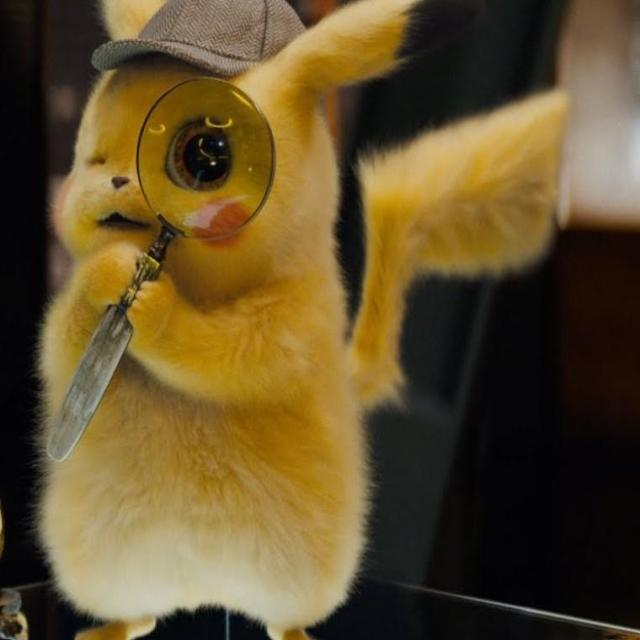pikachu: (38, 0, 570, 639)
